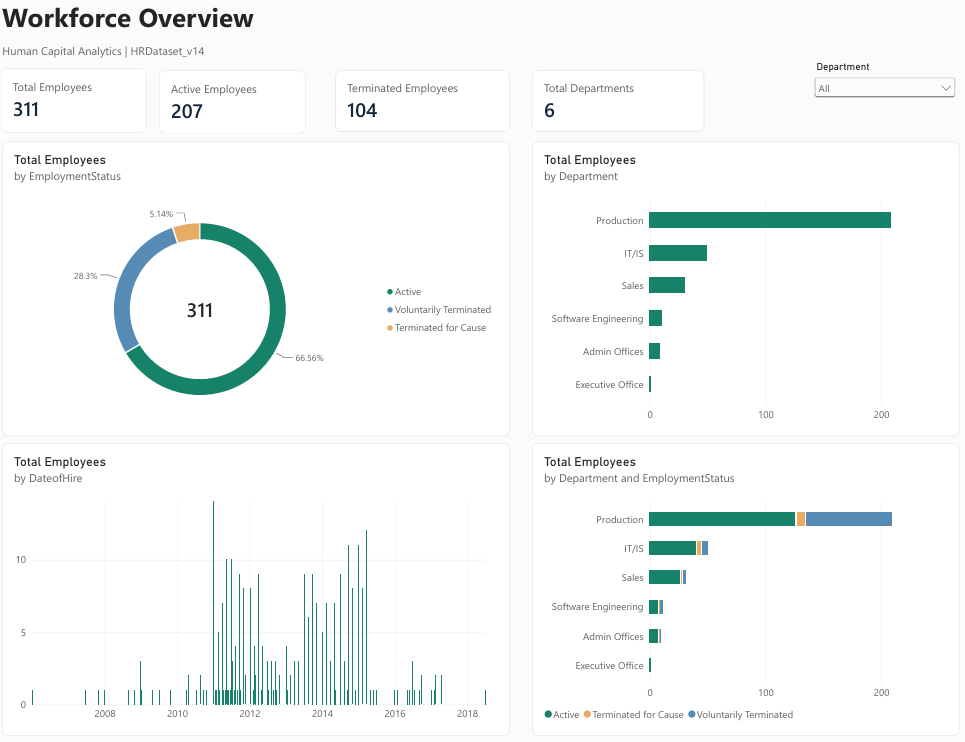

The page's visual inventory and layout, read from the dashboard file:
{"tool":"powerbi","page":{"name":"Page 2","canvas":[1920,1080],"ordinal":1},"visuals":[{"type":"textbox","box":[5,63.8,320,50],"z":0},{"type":"textbox","box":[5,0,440,63.3],"z":1000},{"type":"cardVisual","fields":{"Data":["Employees.Active Employees"]},"box":[230,102.5,210,90],"z":2000},{"type":"cardVisual","fields":{"Data":["Employees.Terminated Employees"]},"box":[482.5,102.5,250,88.3],"z":3000},{"type":"cardVisual","fields":{"Data":["Employees.Total Departments"]},"box":[765,102.5,246.7,88.3],"z":4000},{"type":"cardVisual","fields":{"Data":["Employees.Total Employees"]},"box":[3.3,100,208.3,91.7],"z":5000},{"type":"donutChart","fields":{"Category":["Employees.EmploymentStatus"],"Y":["Employees.Total Employees"]},"box":[5,205,727.5,422.5],"z":6000},{"type":"clusteredBarChart","fields":{"Category":["Employees.Department"],"Y":["Employees.Total Employees"]},"box":[765,205,612.5,422.5],"z":7000},{"type":"clusteredColumnChart","fields":{"Category":["Employees.DateofHire"],"Y":["Employees.Total Employees"]},"box":[5,637.5,727.5,420],"z":8000},{"type":"barChart","fields":{"Category":["Employees.Department"],"Series":["Employees.EmploymentStatus"],"Y":["Employees.Total Employees"]},"box":[765,637.5,612.5,420],"z":9000},{"type":"slicer","fields":{"Values":["Employees.Department"]},"box":[1165,90,211.7,150],"z":10000}]}

Visuals, with their boxes on the page's 1920x1080 design canvas (x1, y1, x2, y2). These are canvas units, not pixel positions in the 965x742 screenshot, which may show the page scaled, cropped or inside an application window:
textbox: 5,64,325,114
textbox: 5,0,445,63
cardVisual - Employees.Active Employees: 230,102,440,192
cardVisual - Employees.Terminated Employees: 482,102,732,191
cardVisual - Employees.Total Departments: 765,102,1012,191
cardVisual - Employees.Total Employees: 3,100,212,192
donutChart - Employees.EmploymentStatus x Employees.Total Employees: 5,205,732,628
clusteredBarChart - Employees.Department x Employees.Total Employees: 765,205,1378,628
clusteredColumnChart - Employees.DateofHire x Employees.Total Employees: 5,638,732,1058
barChart - Employees.Department x Employees.EmploymentStatus: 765,638,1378,1058
slicer - Employees.Department: 1165,90,1377,240
